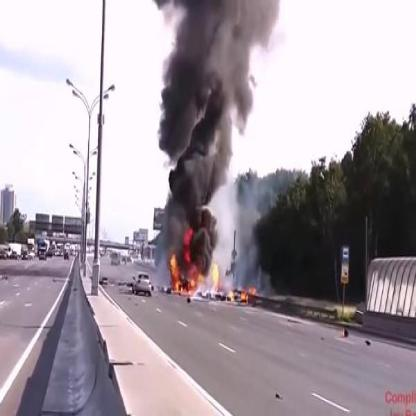fire: (165, 224, 223, 303), (226, 281, 257, 303)
